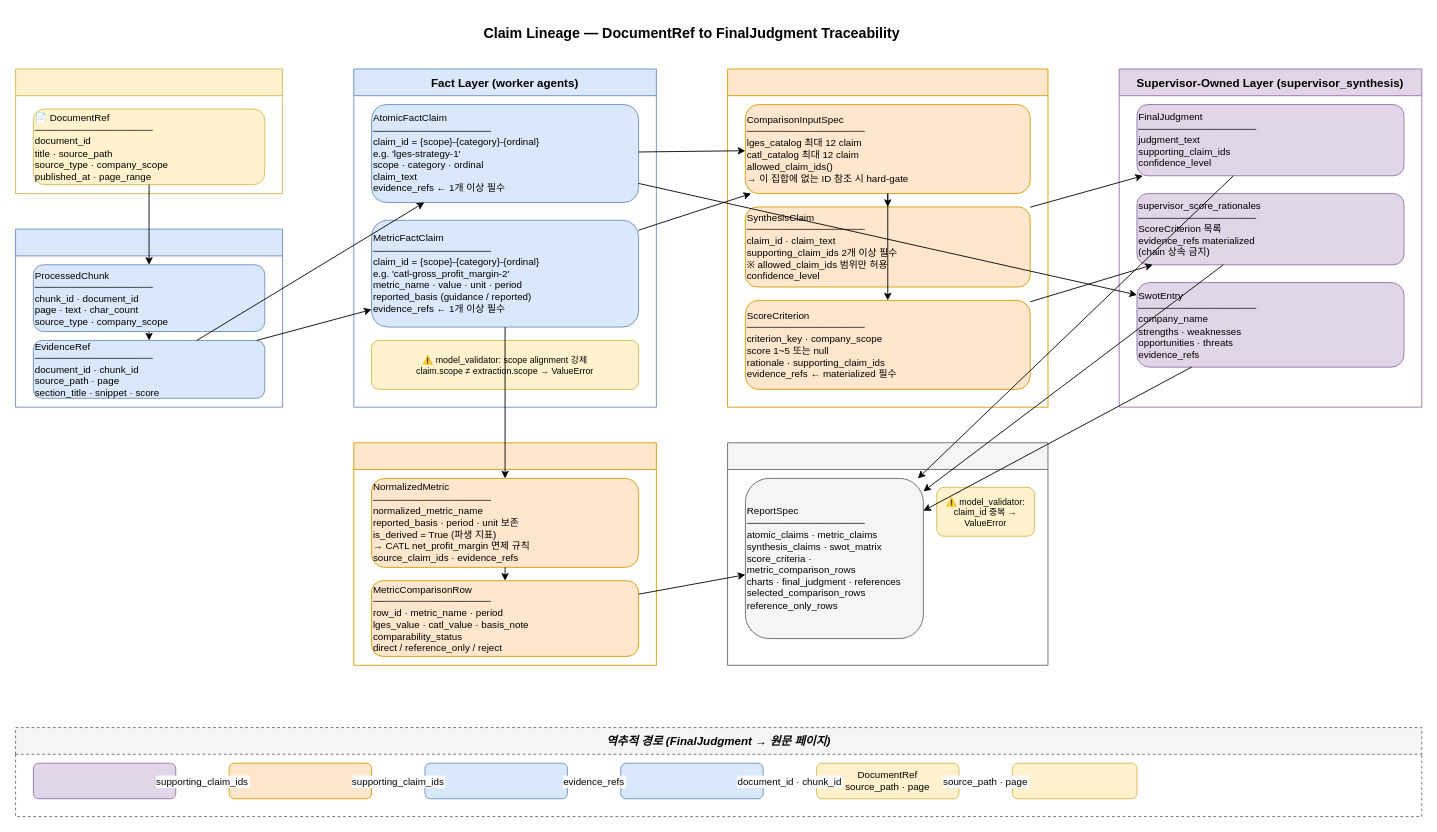
The diagram is 1437 pixels wide and 832 high, and some of its shapes have lost their labels. Each missing label, with the box of its shape:
AtomicFactClaim MetricFactClaim: (424, 762, 567, 799)
Comparison Layer (comparison agent): (727, 68, 1048, 407)
EvidenceRef: (620, 762, 763, 799)
FinalJudgment: (32, 762, 176, 799)
Normalization (tools.normalization): (353, 442, 656, 665)
RAG Retrieval (tools.retrieval): (15, 228, 283, 407)
ReportSpec (제출 계약): (727, 442, 1048, 665)
SynthesisClaim: (228, 762, 372, 799)
원문 소스 (data/raw): (15, 68, 283, 194)
📄 원문 PDF 특정 페이지: (1011, 762, 1137, 799)
